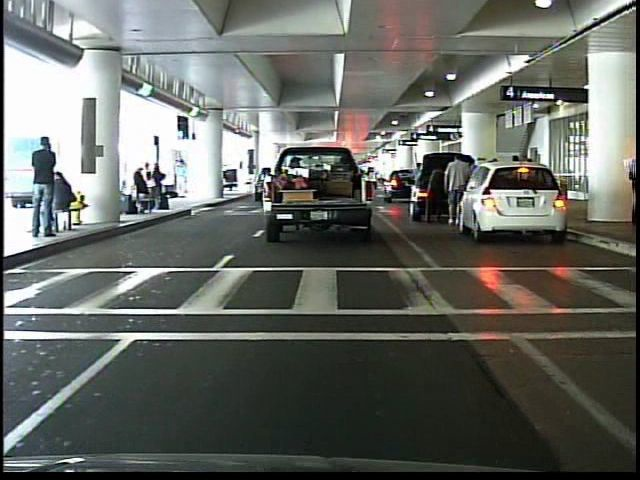person: (28, 135, 65, 243), (443, 152, 472, 231), (407, 159, 428, 212), (173, 159, 191, 201)
